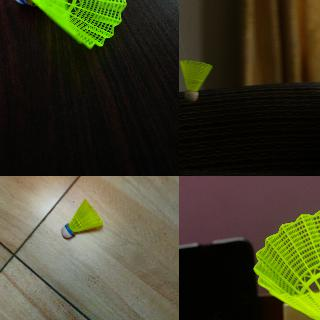shuttlecock: (253, 208, 319, 319), (8, 0, 129, 48), (60, 198, 102, 242), (179, 60, 212, 103)
